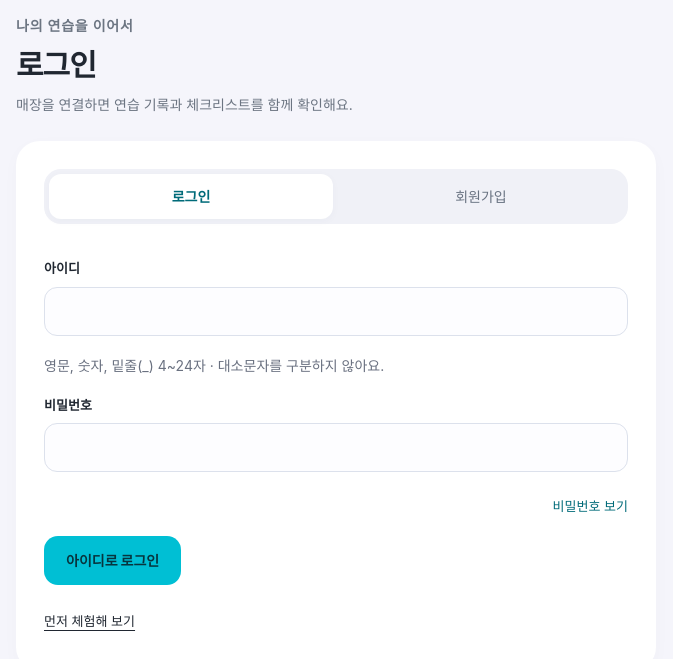
Test case: fails closed when the signup settings cannot be verified
The width and height of the screenshot is (673, 659).
Click the button "회원가입": (481, 197) [339,174,623,219]
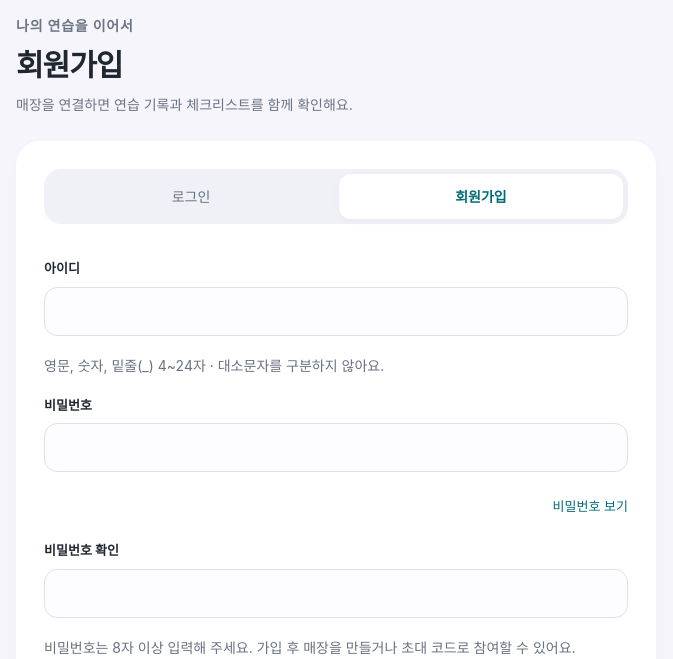
In the field labelled "아이디": (336, 311) [44,287,628,336], type "My_ID"
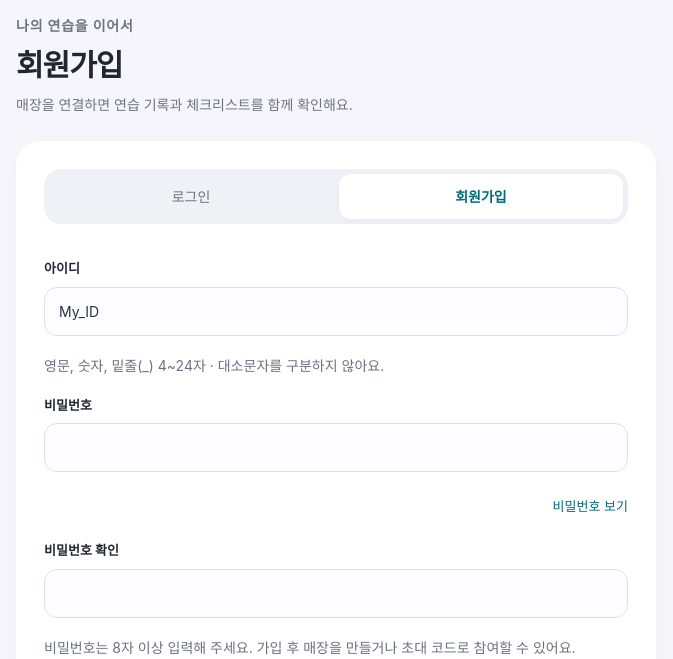
In the password field labelled "비밀번호": (336, 448) [44,423,628,472], type "test-password-123"
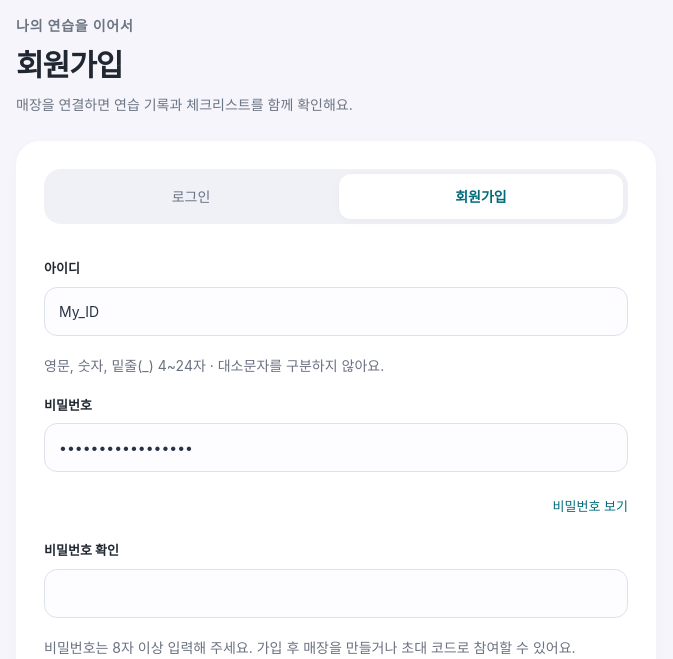
In the password field labelled "비밀번호 확인": (336, 593) [44,569,628,618], type "test-password-123"
(page scrolled)
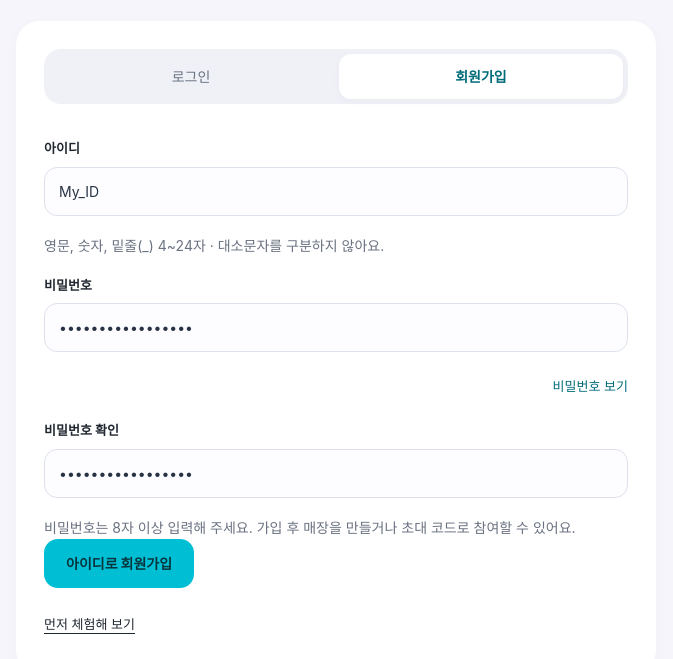
Click the button "아이디로 회원가입": (119, 564) [44,539,194,588]
(page scrolled)
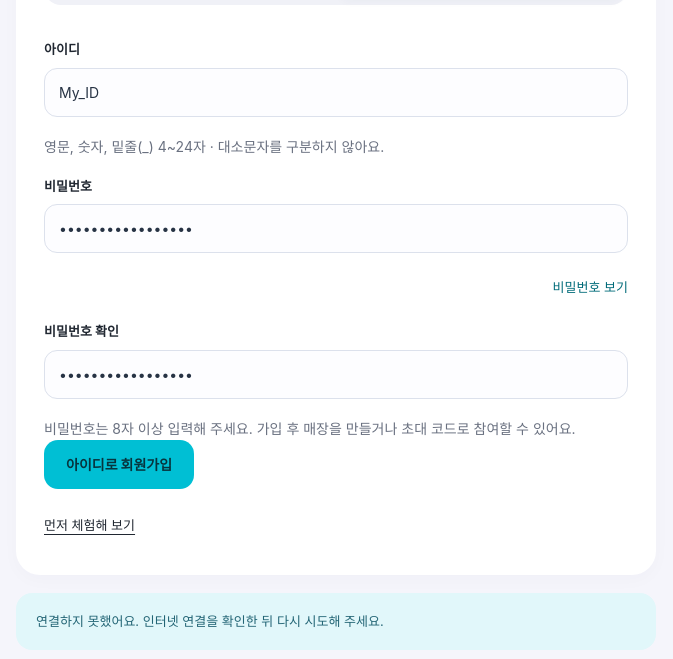
Check: the text "연결하지 못했어요. 인터넷 연결을 확인한 뒤 다시 시도해 주세요." is shown, box [16,592,656,650]
